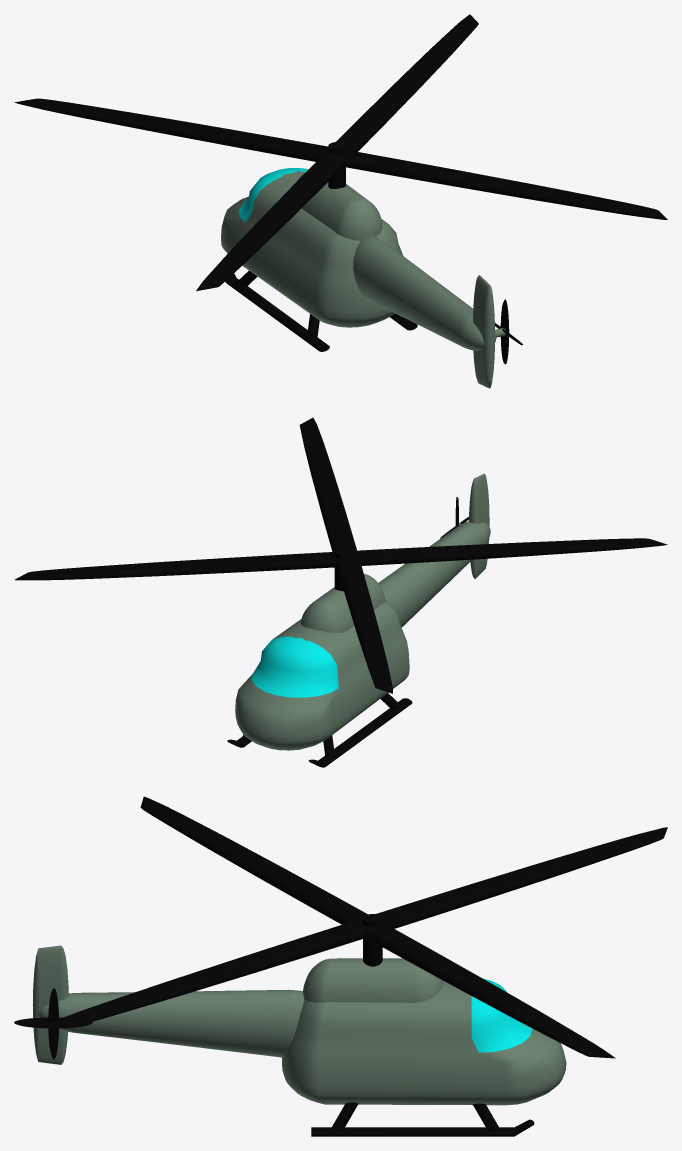
Rendered from Helicopter2.fbx.
3 renders of one model, top to bottom at view 1: azimuth 30°, elevation 25°; view 2: azimuth 150°, elevation 25°; view 3: azimuth 270°, elevation 25°, orthographic. The views are drawn at different scales.
Parts seen in each view (by area): view 1: pSphere1, pSphere7, pSphere6, pSphere3, pSphere2, pSphere5, pCylinder9; view 2: pSphere1, pSphere6, pSphere7, pSphere3, pSphere2, pSphere5, pCylinder9; view 3: pSphere1, pSphere3, pSphere7, pSphere6, pSphere2, pSphere5, pCylinder10, pCylinder2, pSphere8.
Boxes of the visible parts, <box> form: pSphere1: <box>221,168,403,327</box>; pSphere7: <box>14,98,667,219</box>; pSphere6: <box>196,14,478,291</box>; pSphere3: <box>353,236,496,350</box>; pSphere2: <box>297,172,382,241</box>; pSphere5: <box>473,275,494,388</box>; pCylinder9: <box>225,273,329,351</box>; pSphere1: <box>235,600,409,750</box>; pSphere6: <box>14,538,667,580</box>; pSphere7: <box>299,417,392,693</box>; pSphere3: <box>378,521,490,627</box>; pSphere2: <box>300,574,385,633</box>; pSphere5: <box>469,473,489,578</box>; pCylinder9: <box>309,698,412,767</box>; pSphere1: <box>282,978,566,1105</box>; pSphere3: <box>38,989,303,1057</box>; pSphere7: <box>45,827,667,1026</box>; pSphere6: <box>140,796,615,1058</box>; pSphere2: <box>302,958,443,1002</box>; pSphere5: <box>32,945,68,1064</box>; pCylinder10: <box>311,1119,534,1136</box>; pCylinder2: <box>363,914,382,966</box>; pSphere8: <box>48,988,58,1059</box>.
Bounding box in the file's own units: 6.21 × 2.12 × 6.55.
